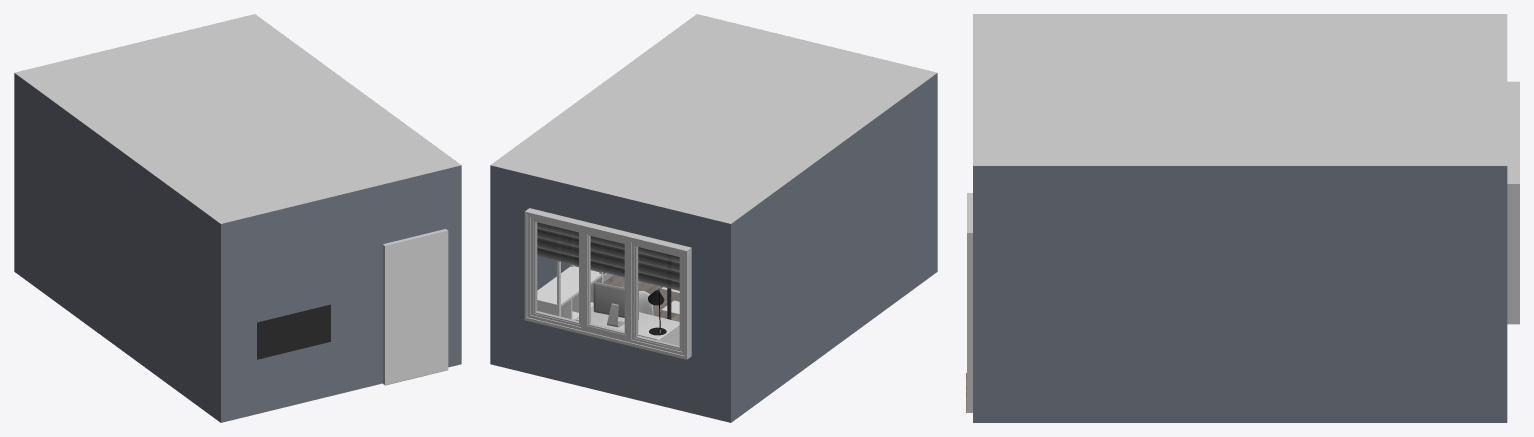
The model's file is Room_2.gltf.
The picture shows the model from 3 angles, left to right: view 1: azimuth 30°, elevation 25°; view 2: azimuth 150°, elevation 25°; view 3: azimuth 270°, elevation 25°; orthographic projection. The views are drawn at different scales.
Parts seen in each view (by area): view 1: Wall_Exterior, Ceiling_Exterior, Door_Exterior, Interior_1, Furniture_Exterior; view 2: Wall_Exterior, Ceiling_Exterior, Furniture_Exterior, Interior_2, Curtain_Interior, Floor_Exterior; view 3: Wall_Exterior, Ceiling_Exterior, Furniture_Exterior.
Boxes of the visible parts, box(x1,y1,x2,y2) form: Wall_Exterior: box(14, 73, 461, 422); Ceiling_Exterior: box(14, 14, 461, 223); Door_Exterior: box(385, 230, 448, 384); Interior_1: box(257, 304, 330, 359); Furniture_Exterior: box(382, 229, 447, 384); Wall_Exterior: box(490, 73, 937, 422); Ceiling_Exterior: box(490, 14, 937, 223); Furniture_Exterior: box(524, 208, 691, 359); Interior_2: box(537, 261, 679, 345); Curtain_Interior: box(537, 222, 679, 290); Floor_Exterior: box(603, 275, 679, 321); Wall_Exterior: box(973, 166, 1507, 422); Ceiling_Exterior: box(973, 14, 1507, 165); Furniture_Exterior: box(967, 81, 1519, 412).
Size of what is drawn, in the model's own units: 3.8 by 3 by 5.86.
Materials: 70 (19 with a texture image).
